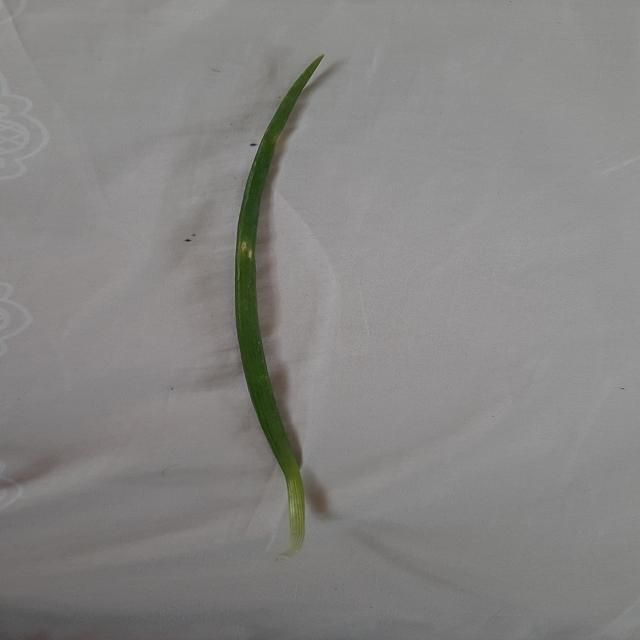onion: (236, 55, 322, 560)
